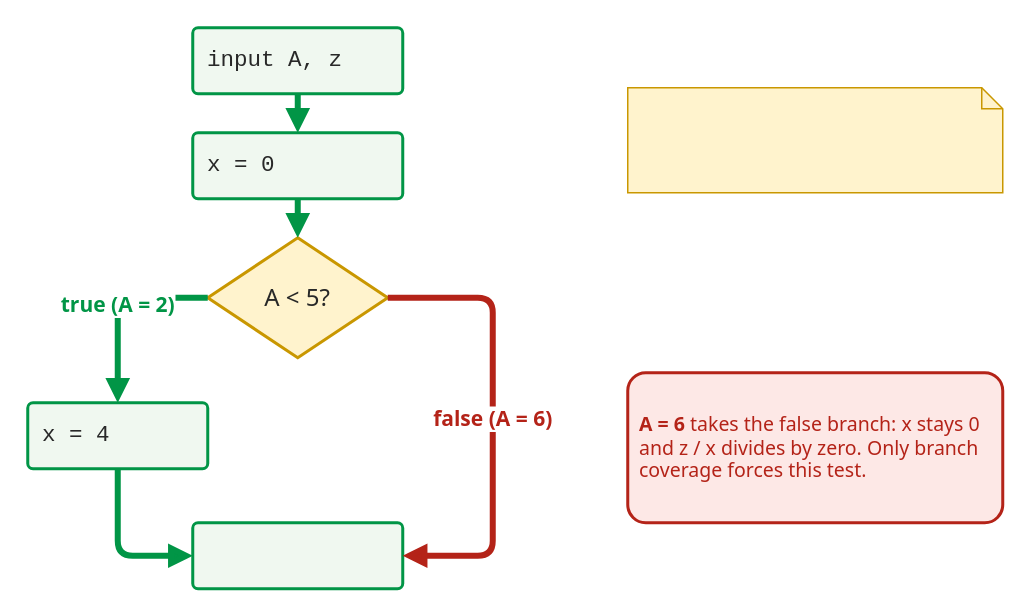
Image size: 1029x615. Some labels were removed from this diagram. The shapes that lost their labels are listed below. From the top down, each one's centre as x and y in pixels, then its label:
At pixel 814 139: "A = 2 runs every statement: 100% statement coverage, no failure".
At pixel 297 555: "y = z / x".
